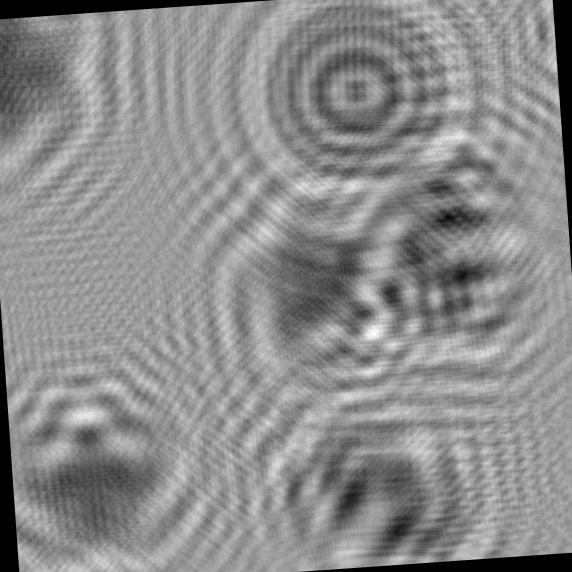K: (180, 154, 417, 434), (3, 333, 221, 572), (0, 9, 152, 218)
M: (314, 138, 572, 418), (228, 348, 516, 572)
O: (220, 0, 496, 221)
